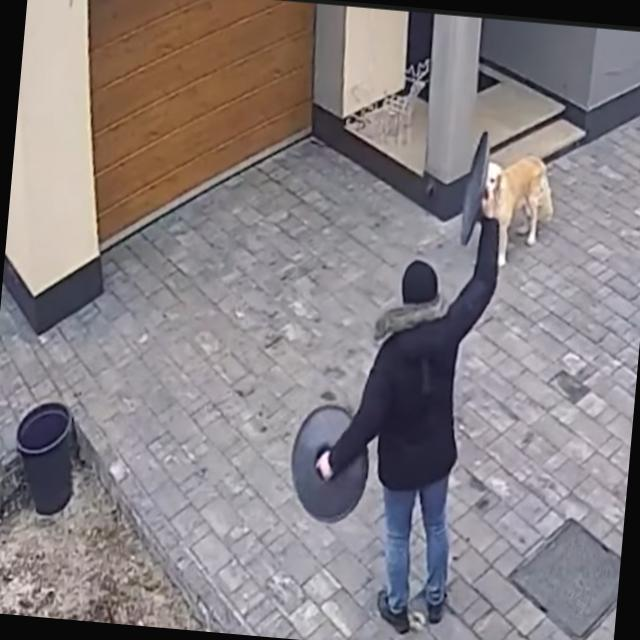person: (302, 182, 505, 638)
